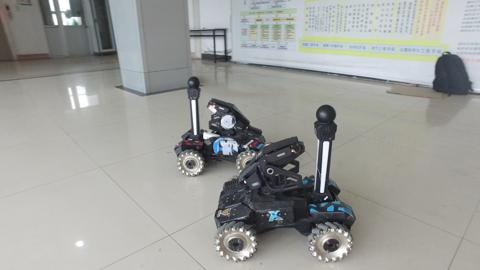chariot: (210, 103, 359, 268), (163, 74, 271, 177)
